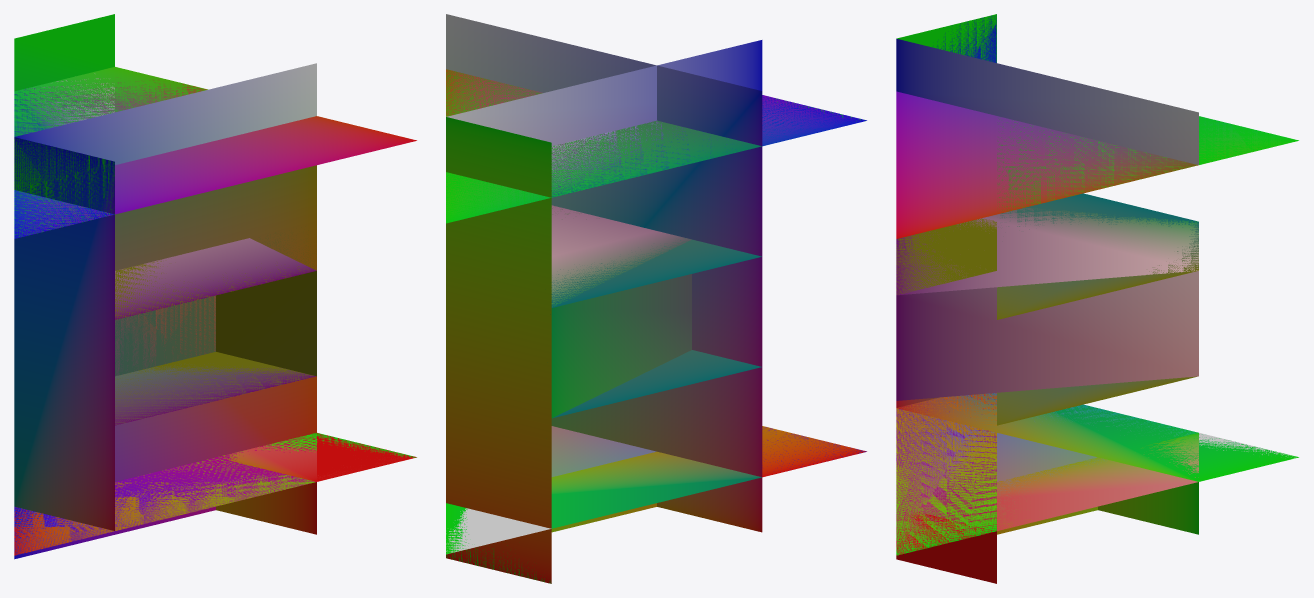
Rendered from GenCaves3Wood.fbx.
The picture shows the model from 3 angles, left to right: view 1: azimuth 30°, elevation 25°; view 2: azimuth 150°, elevation 25°; view 3: azimuth 270°, elevation 25°; orthographic projection. The views are drawn at different scales.
Visible parts, largest first — view 1: End, Corner Moulding, Thin Spiral, Tunnel Pillar Slant, Thin Slope, Revcorner Moulding, Corner, Corner Gutter, Floor; view 2: Corner, Revcorner, Thin Spiral, Corner Moulding, Thin Slope, End, Revcorner Moulding, Floor, Corner Gutter, Revcorner Gutter; view 3: Thin Spiral, Revcorner Moulding, Thin Slope, End, Corner Gutter, Tunnel Pillar Slant, Floor, Corner Moulding, Revcorner Gutter.
Part boxes in pixels (x1=…): End: x1=14, y1=137, x2=114, y2=530; Corner Moulding: x1=14, y1=67, x2=316, y2=559; Thin Spiral: x1=14, y1=73, x2=414, y2=534; Tunnel Pillar Slant: x1=14, y1=137, x2=414, y2=481; Thin Slope: x1=14, y1=14, x2=411, y2=558; Revcorner Moulding: x1=14, y1=75, x2=416, y2=238; Corner: x1=15, y1=63, x2=316, y2=164; Corner Gutter: x1=14, y1=433, x2=416, y2=555; Floor: x1=14, y1=457, x2=416, y2=554; Corner: x1=446, y1=14, x2=762, y2=532; Revcorner: x1=446, y1=117, x2=551, y2=583; Thin Spiral: x1=446, y1=40, x2=866, y2=417; Corner Moulding: x1=446, y1=69, x2=761, y2=223; Thin Slope: x1=446, y1=172, x2=864, y2=467; End: x1=446, y1=451, x2=761, y2=553; Revcorner Moulding: x1=446, y1=69, x2=866, y2=583; Floor: x1=446, y1=426, x2=866, y2=554; Corner Gutter: x1=658, y1=426, x2=866, y2=531; Revcorner Gutter: x1=446, y1=508, x2=551, y2=552; Thin Spiral: x1=896, y1=38, x2=1198, y2=553; Revcorner Moulding: x1=896, y1=91, x2=1198, y2=238; Thin Slope: x1=896, y1=116, x2=1296, y2=553; End: x1=896, y1=15, x2=1298, y2=534; Corner Gutter: x1=896, y1=393, x2=996, y2=555; Tunnel Pillar Slant: x1=896, y1=14, x2=996, y2=583; Floor: x1=896, y1=393, x2=1297, y2=554; Corner Moulding: x1=997, y1=116, x2=1298, y2=211; Revcorner Gutter: x1=1199, y1=433, x2=1296, y2=458.
Size of the model in its own units: 2 by 2 by 1.73.
